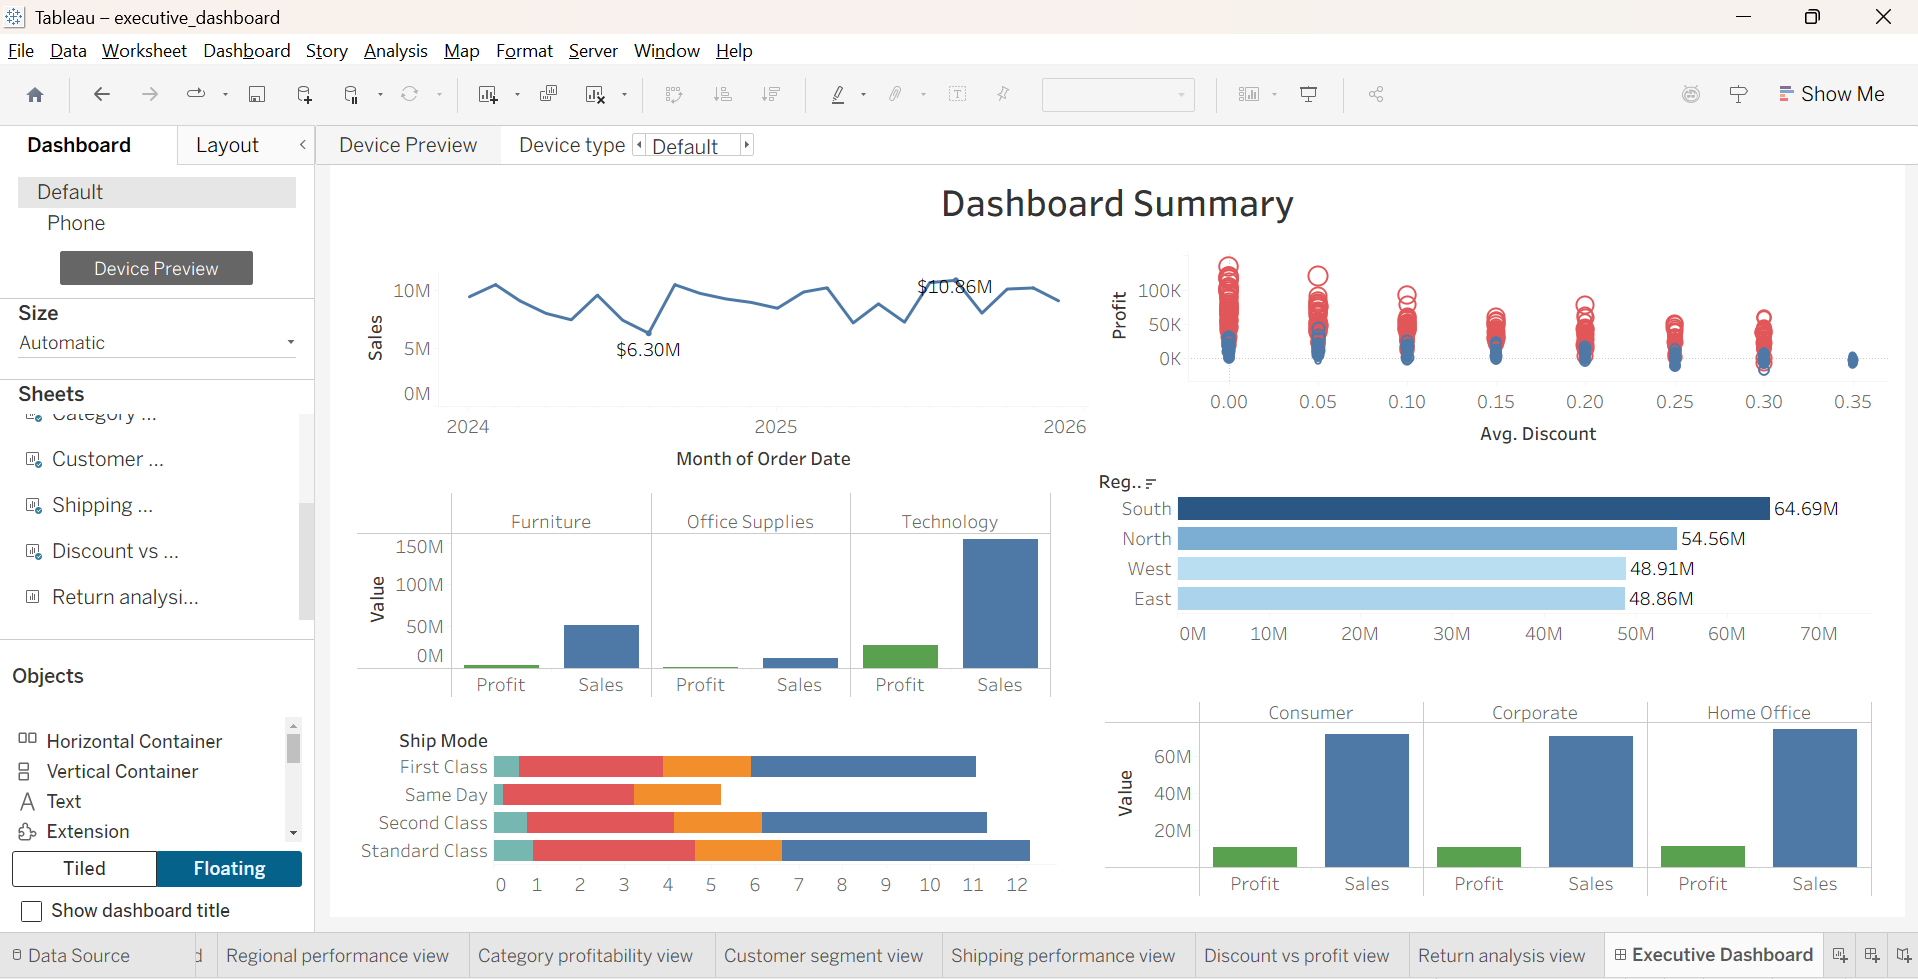

The dashboard page shown, as its layout file describes it:
{"tool":"tableau","page":{"name":"Executive Dashboard","canvas":[1000,1000],"units":"permille","ordinal":0},"visuals":[{"type":"title","box":[5.1,10.6,989.8,77.1]},{"type":"worksheet","title":"Discount vs profit view","mark":"Automatic","rows":["profit"],"cols":["discount"],"box":[488.2,115.7,501.6,266]},{"type":"worksheet","title":"Sales Trend","mark":"Automatic","rows":["sales"],"cols":["order_date"],"box":[15.9,142.3,466,272.6]},{"type":"worksheet","title":"Regional performance view","mark":"Automatic","rows":["region"],"cols":["sales"],"box":[487,409.6,492.7,276.6]},{"type":"worksheet","title":"Category profitability view","mark":"Automatic","cols":["category"],"box":[17.1,436.2,440.6,272.6]},{"type":"worksheet","title":"Customer segment view","mark":"Automatic","cols":["customer_segment"],"box":[492.1,714.1,487,259.3]}]}

Visuals, with their boxes on the dashboard's canvas, which has no fixed pixel size, in thousandths of its width and height (x1, y1, x2, y2). These are canvas units, not pixel positions in the 1918x979 screenshot, which may show the page scaled, cropped or inside an application window:
title: box=[5, 11, 995, 88]
"Discount vs profit view" worksheet: box=[488, 116, 990, 382]
"Sales Trend" worksheet: box=[16, 142, 482, 415]
"Regional performance view" worksheet: box=[487, 410, 980, 686]
"Category profitability view" worksheet: box=[17, 436, 458, 709]
"Customer segment view" worksheet: box=[492, 714, 979, 973]
